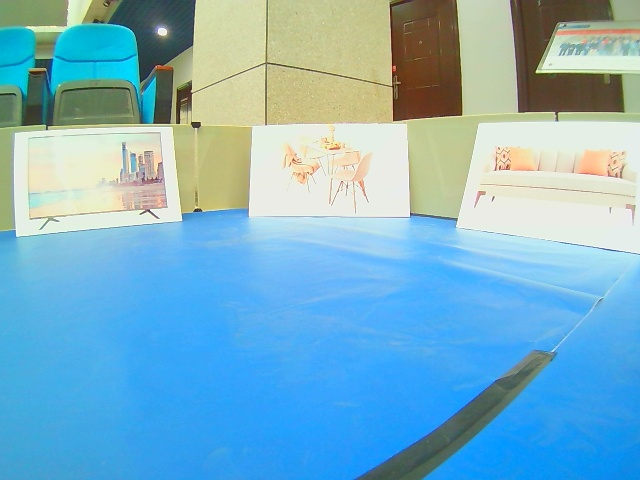sofa: (455, 122, 640, 256)
table: (247, 125, 412, 219)
tv: (12, 128, 184, 237)
